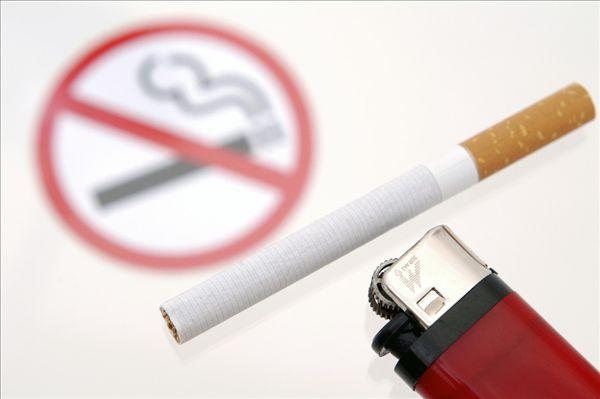smoke: (157, 76, 598, 356)
